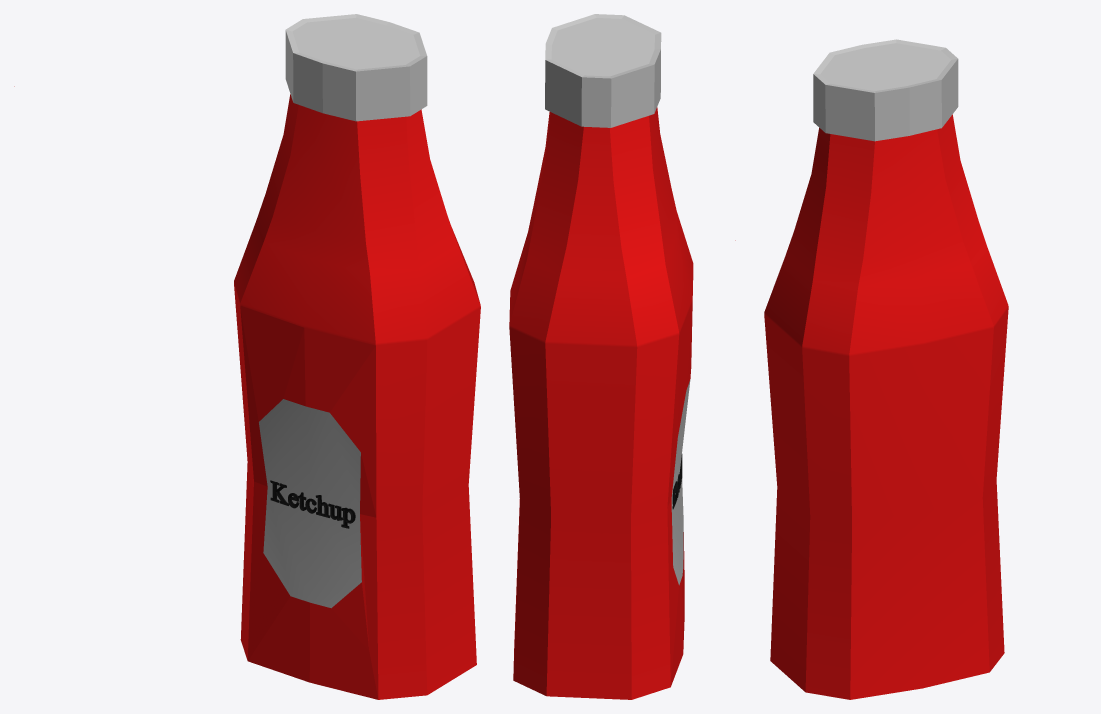
Rendered from Ketchup 2.obj.
3 views of the same model, side by side, from view 1: azimuth 30°, elevation 25°; view 2: azimuth 150°, elevation 25°; view 3: azimuth 270°, elevation 25° (orthographic). The views are drawn at different scales.
Parts seen in each view (by area): view 1: Box20179, Object002, Object001, Text001; view 2: Box20179, Object001, Object002; view 3: Box20179, Object001.
Boxes of the visible parts, box(x1,y1,x2,y2) form: Box20179: box(234, 94, 480, 699); Object002: box(259, 399, 361, 608); Object001: box(285, 14, 427, 121); Text001: box(270, 480, 355, 528); Box20179: box(509, 107, 693, 699); Object001: box(545, 14, 661, 127); Object002: box(671, 380, 690, 585); Box20179: box(764, 114, 1008, 699); Object001: box(813, 39, 958, 141).
Size of the model in its own units: 527 by 913 by 453.
